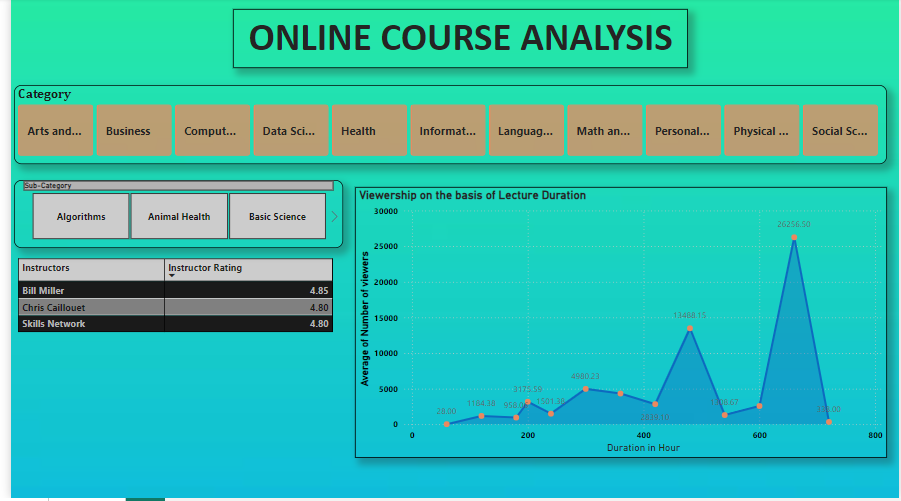

The dashboard page shown, as its layout file describes it:
{"tool":"powerbi","page":{"name":"Page 2","canvas":[1280,720],"ordinal":1},"visuals":[{"type":"advancedSlicerVisual","fields":{"Values":["Online_Courses.Category"]},"box":[4.4,125.5,1256.6,113.8],"z":0},{"type":"tableEx","fields":{"Values":["instructor name.Instructors","instructor name.Instructor Rating"]},"box":[4.4,370.7,474.3,290.4],"z":1000},{"type":"slicer","fields":{"Values":["instructor name.Sub-Category"]},"box":[4.4,261.9,474,98],"z":2000},{"type":"lineChart","title":"Viewership on the basis of Lecture Duration","fields":{"Category":["Online_Courses.Duration in Hour"],"Y":["Avg(Online_Courses.Number of viewers)"]},"box":[494.8,271.5,766.2,389.7],"z":3000},{"type":"textbox","box":[319.6,16.1,655.3,84.7],"z":4000}]}

Visuals, with their boxes in screenshot pixels (x1, y1, x2, y2), scaled from the page's 1280x720 canvas onto the 901x501 screenshot:
advancedSlicerVisual - Online_Courses.Category: left=3, top=87, right=888, bottom=167
tableEx - instructor name.Instructors x instructor name.Instructor Rating: left=3, top=258, right=337, bottom=460
slicer - instructor name.Sub-Category: left=3, top=182, right=337, bottom=250
"Viewership on the basis of Lecture Duration" lineChart: left=348, top=189, right=888, bottom=460
textbox: left=225, top=11, right=686, bottom=70
